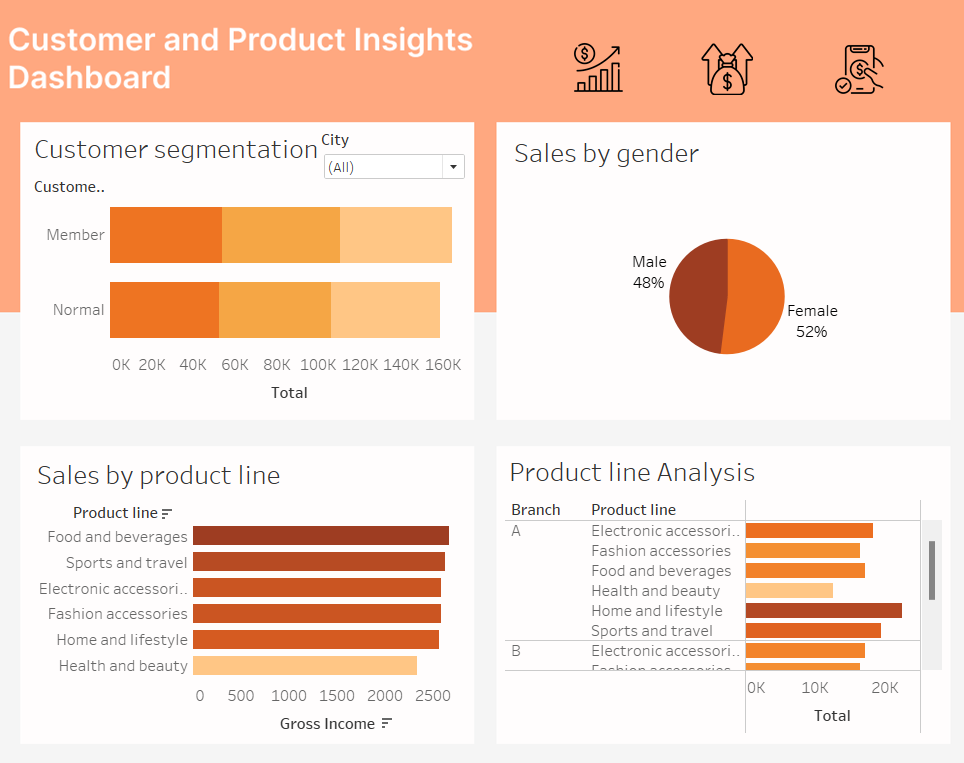

This screenshot's page, from the dashboard's own definition file:
{"tool":"tableau","page":{"name":"Customer and product insights","canvas":[1000,800],"ordinal":1},"visuals":[{"type":"image","param":"C:/Users/MEGHANA L/Downloads/customer and product insights dashboard.png","box":[8,8,984,784]},{"type":"dashboard-object","box":[563,55,108,52]},{"type":"dashboard-object","box":[689,57,114,52]},{"type":"dashboard-object","box":[822,57,112,52]},{"type":"worksheet","title":"Customer segmentation","mark":"Automatic","rows":["Customer type"],"cols":["Total"],"box":[49,141,439,283]},{"type":"filter","title":"Customer segmentation","param":"[federated.0cb9kpj1jnonko13j0xfv08zz159].[none:City:nk]","box":[340,143,147,54]},{"type":"worksheet","title":"Sales by gender","mark":"Pie","box":[529,145,434,281]},{"type":"worksheet","title":"Product line Analysis","mark":"Automatic","rows":["Branch","Product line"],"cols":["Total"],"box":[524,464,437,284]},{"type":"worksheet","title":"Sales by product line","mark":"Automatic","rows":["Product line"],"cols":["gross income"],"box":[52,467,429,288]}]}

Visuals, with their boxes in screenshot pixels (x1, y1, x2, y2), scaled from the page's 1000x800 canvas onto the 964x763 screenshot:
image: l=8, t=8, r=956, b=755
dashboard-object: l=543, t=52, r=647, b=102
dashboard-object: l=664, t=54, r=774, b=104
dashboard-object: l=792, t=54, r=900, b=104
"Customer segmentation" worksheet: l=47, t=134, r=470, b=404
"Customer segmentation" filter: l=328, t=136, r=469, b=188
"Sales by gender" worksheet (Pie marks): l=510, t=138, r=928, b=406
"Product line Analysis" worksheet: l=505, t=443, r=926, b=713
"Sales by product line" worksheet: l=50, t=445, r=464, b=720
